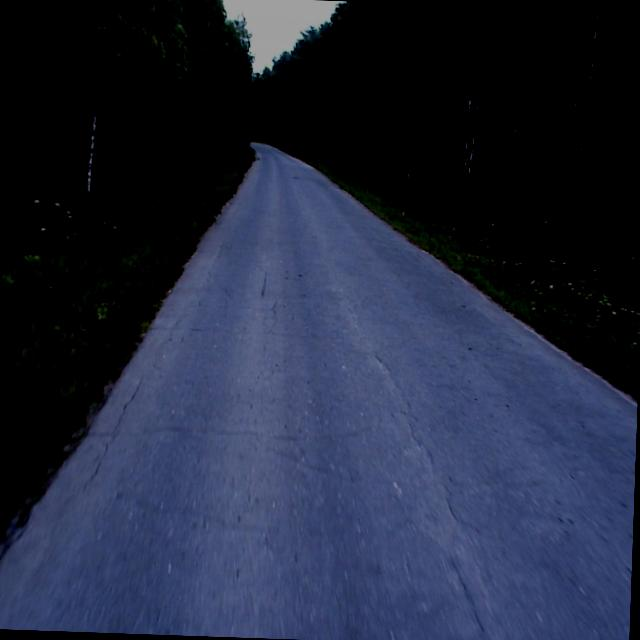road: (0, 141, 637, 640)
